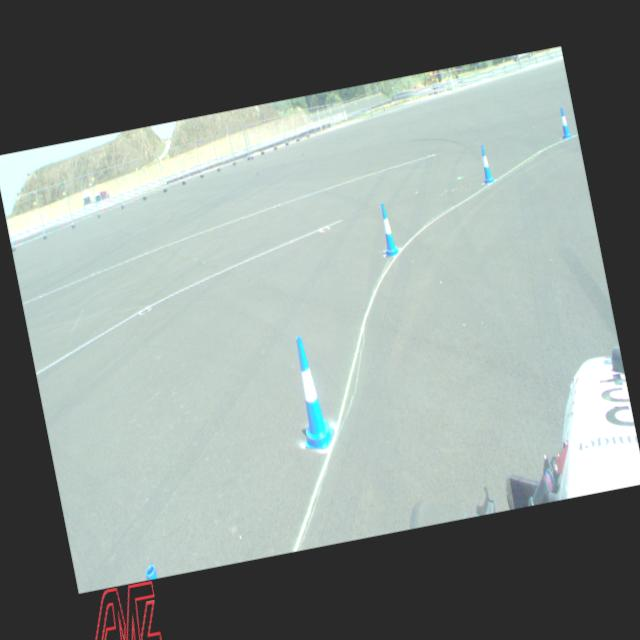blue_cone: (284, 333, 336, 452), (376, 202, 400, 257), (477, 143, 496, 184), (558, 106, 572, 139)
